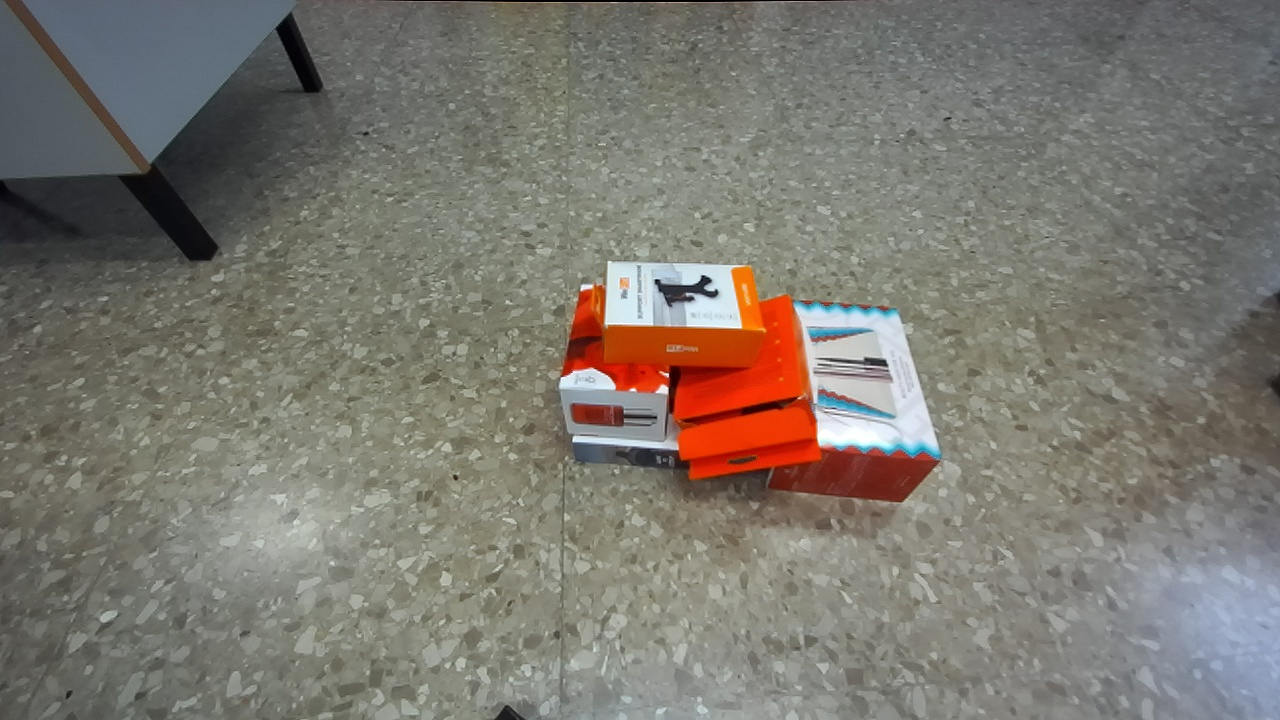caja_busbar: (769, 300, 941, 501)
caja_chasis: (573, 414, 687, 470)
caja_manguera: (673, 296, 819, 479)
caja_pcb: (596, 261, 765, 367)
caja_potencia: (559, 286, 669, 441)
